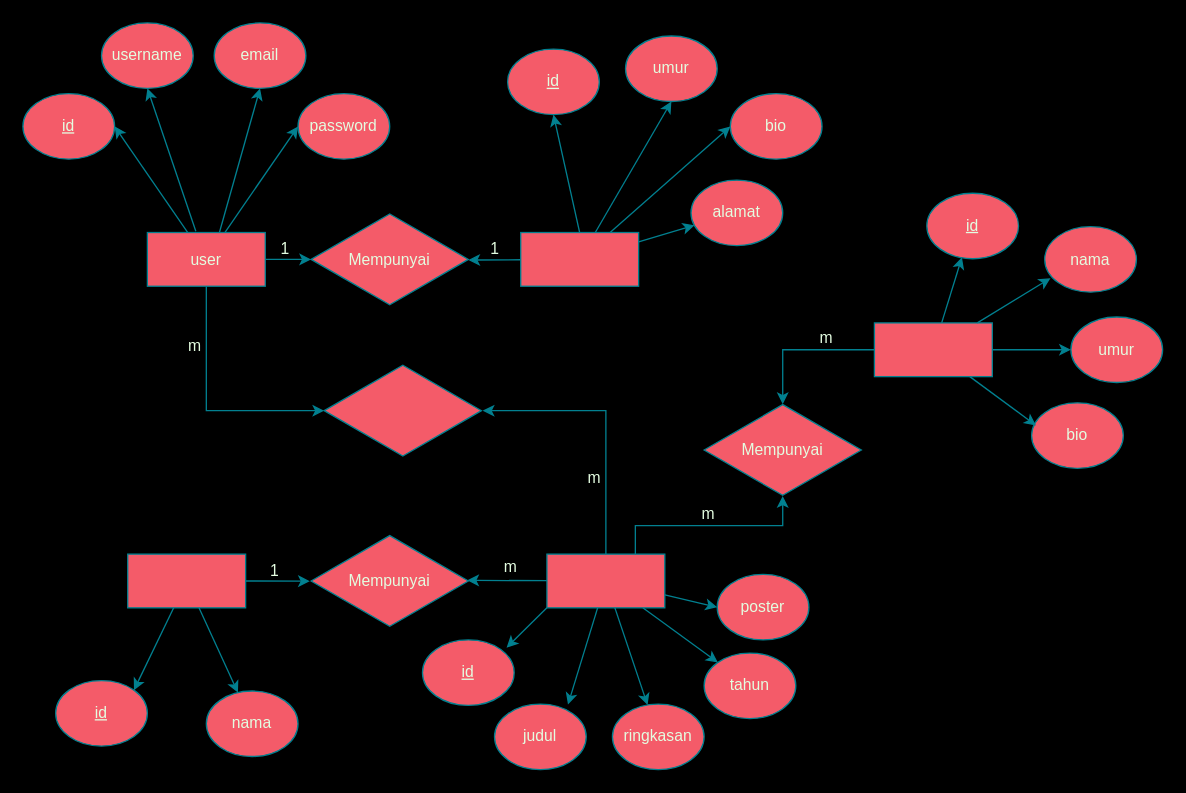
This 1186x793 diagram has some shape labels left out. Each missing label, with the centre of its shape:
"cast" goes at (932,349).
"film" goes at (605,580).
"genre" goes at (186,580).
"mengulas" goes at (402,410).
"Profil" goes at (579,258).
